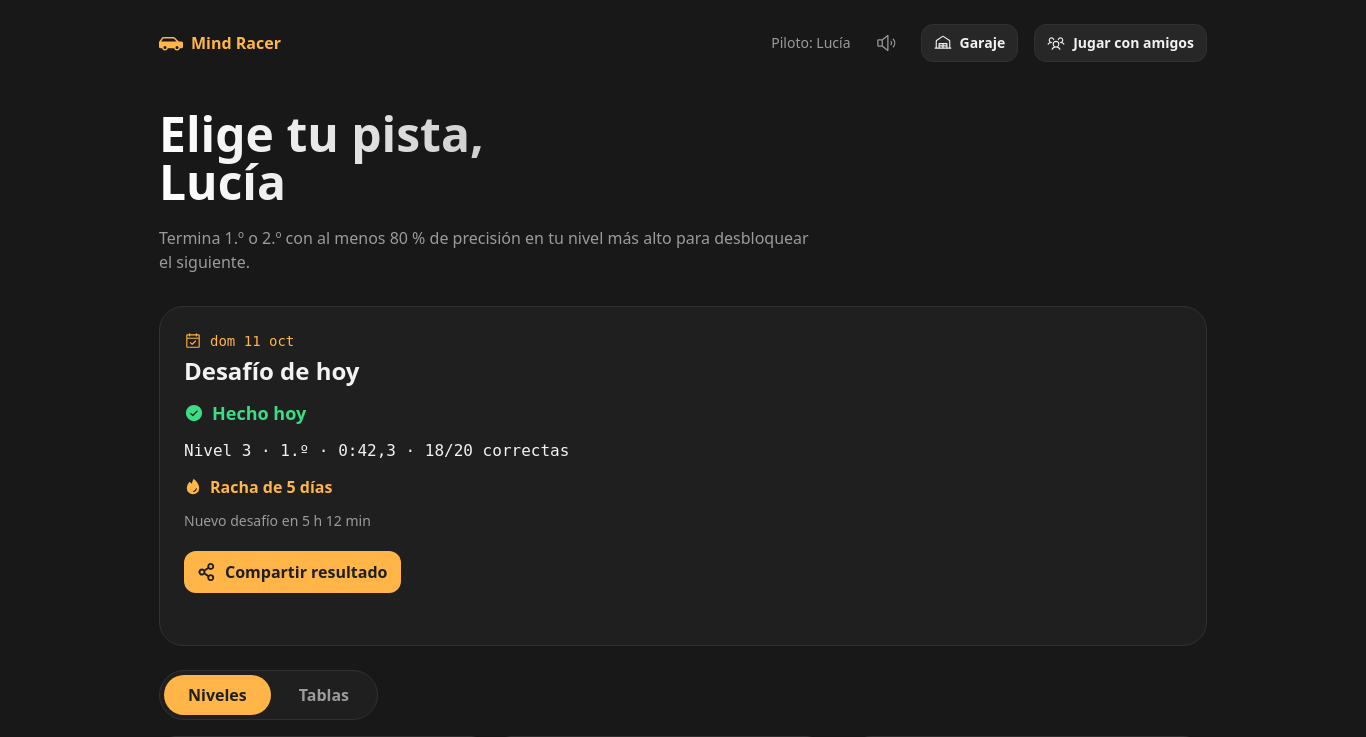
Scenario: compartir el resultado › sin menú de compartir copia el texto y avisa (Computadora)
This screenshot has width=1366, height=737.
What coordinates should you click on to do the following:
click the button "Compartir resultado"
I would click on:
 (292, 572)
Its box is [184,551,400,593].
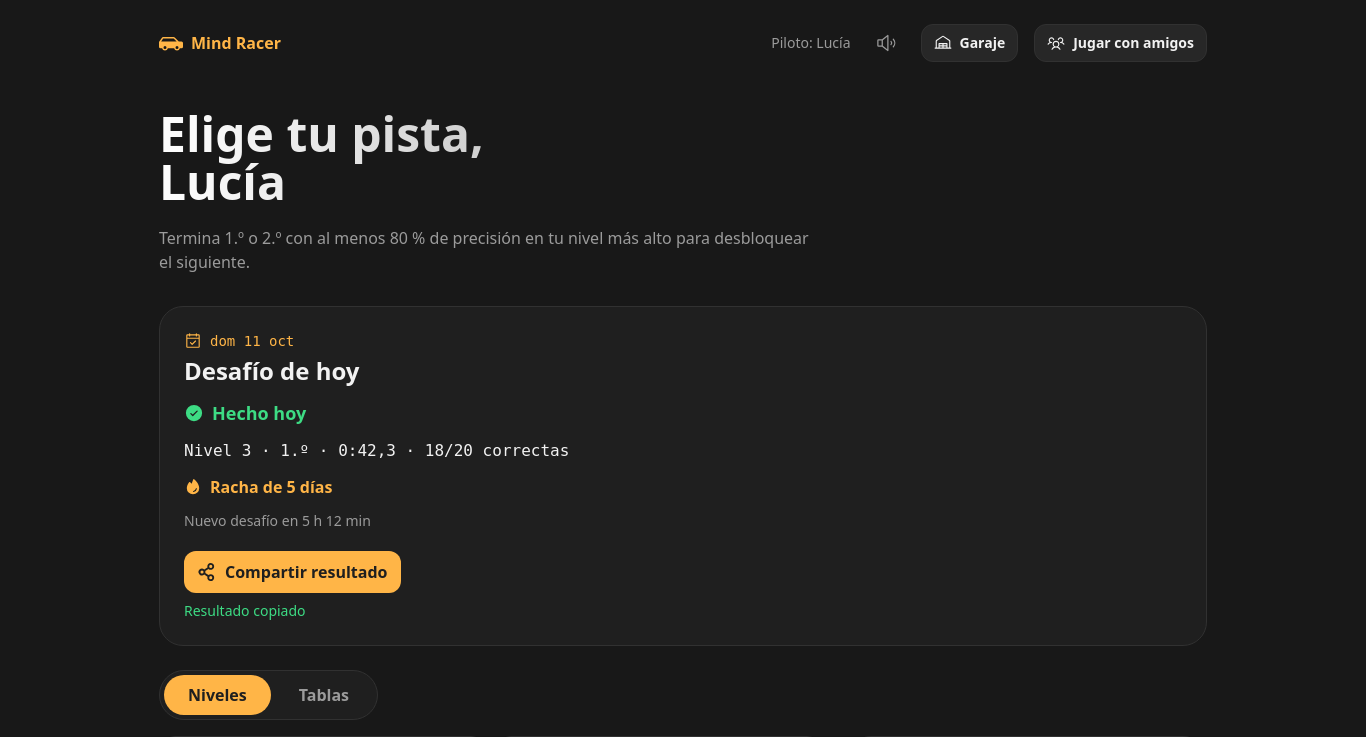
Expected: the text "Resultado copiado" is shown, [184,601,306,621]
